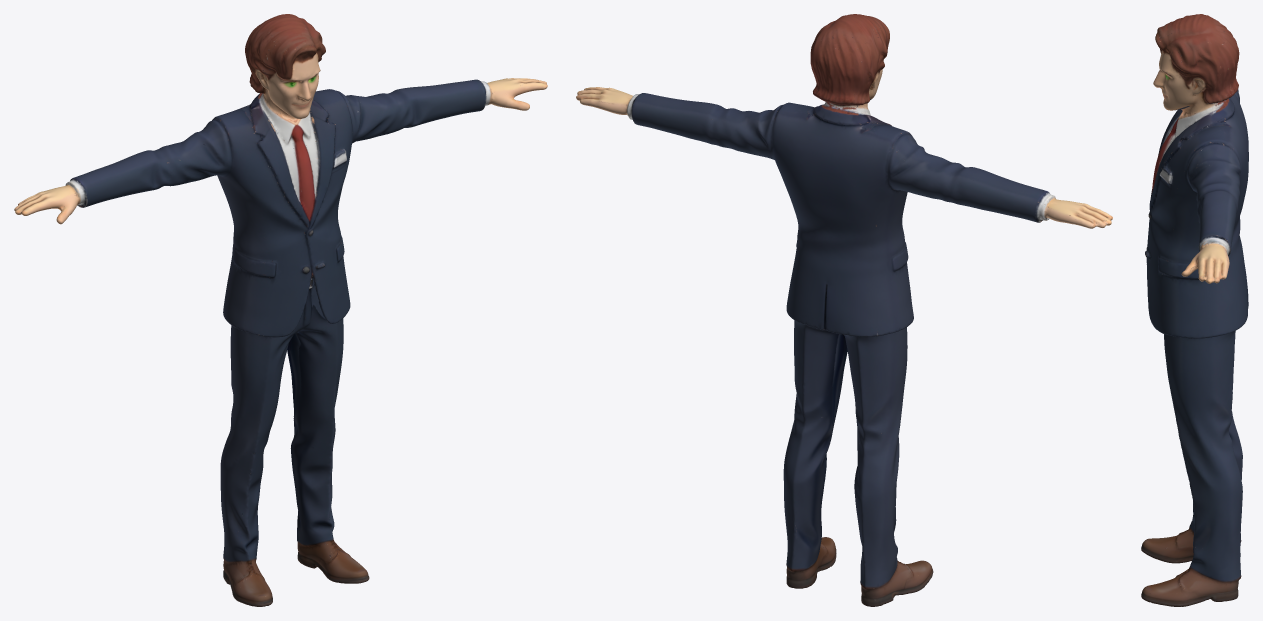
The model's file is Meshy_AI_tyler_0107222328_texture.fbx.
3 views of the same model, side by side, from view 1: azimuth 30°, elevation 25°; view 2: azimuth 150°, elevation 25°; view 3: azimuth 270°, elevation 25° (orthographic).
Visible parts, largest first — view 1: Mesh1.0; view 2: Mesh1.0; view 3: Mesh1.0.
Boxes of the visible parts, box(x1,y1,x2,y2) form: Mesh1.0: box(14, 14, 547, 606); Mesh1.0: box(576, 14, 1112, 606); Mesh1.0: box(1141, 14, 1248, 606).
Bounding box in the file's own units: 189 × 191 × 33.28.
1 material, 1 textured.
